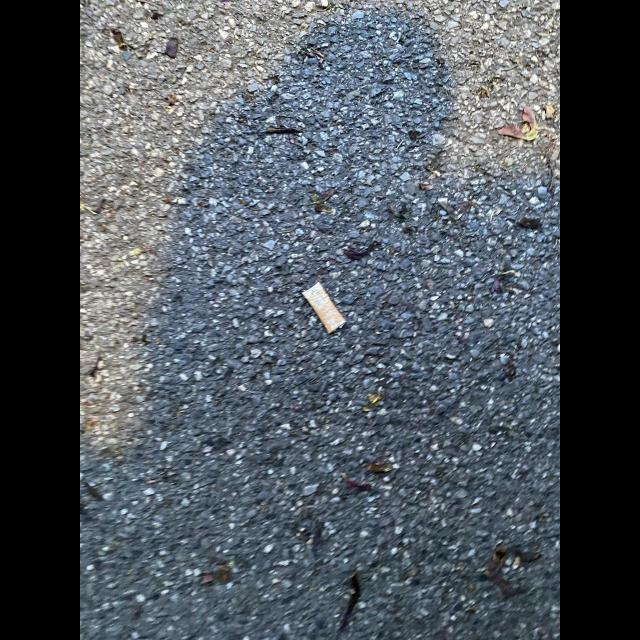cigarette: (302, 281, 346, 334)
